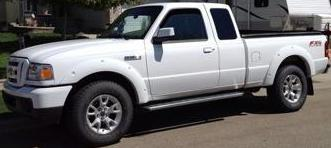front_view: (5, 55, 66, 116)
headlight: (22, 61, 58, 95)
side_glass: (158, 6, 229, 44)
